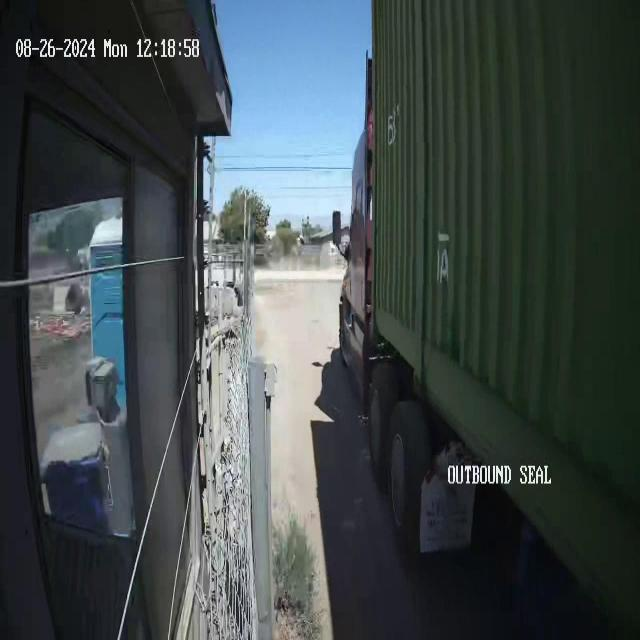CONTAINER: (370, 1, 639, 612)
